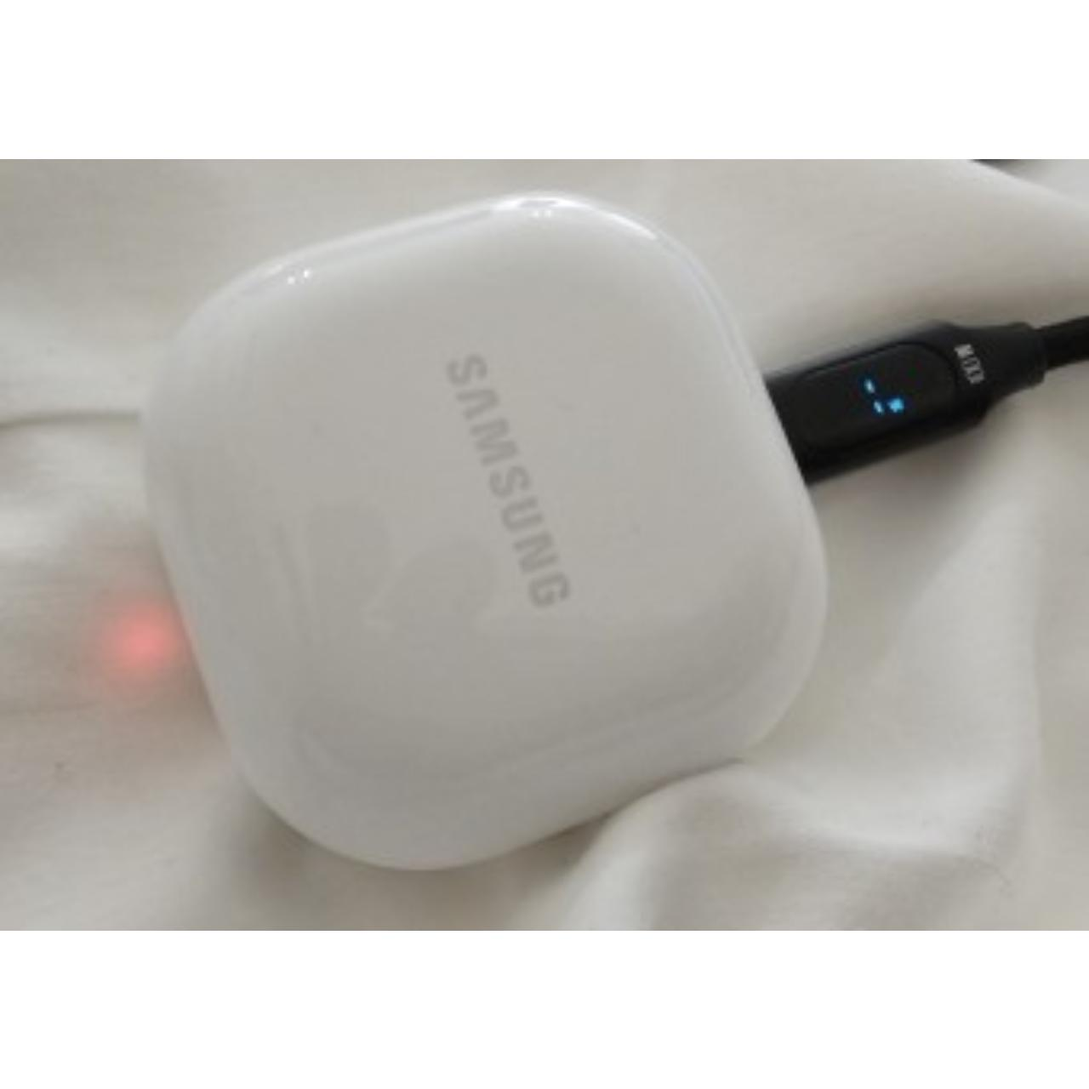Buds: (137, 188, 837, 872)
